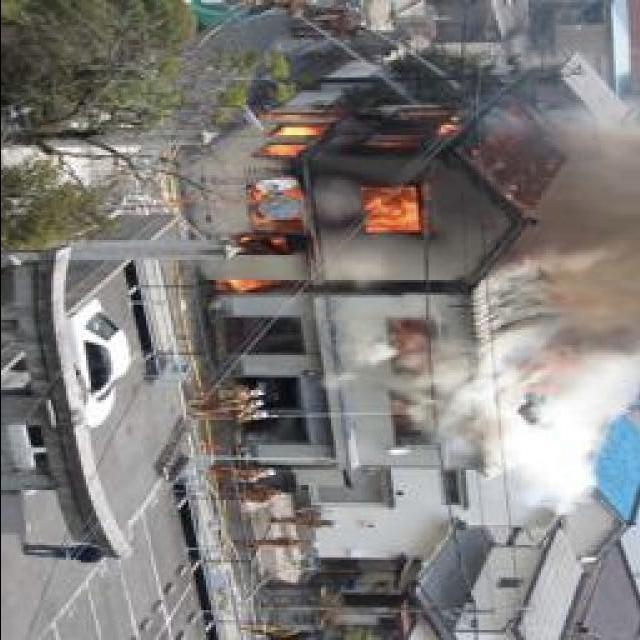Fire: (207, 85, 471, 316)
